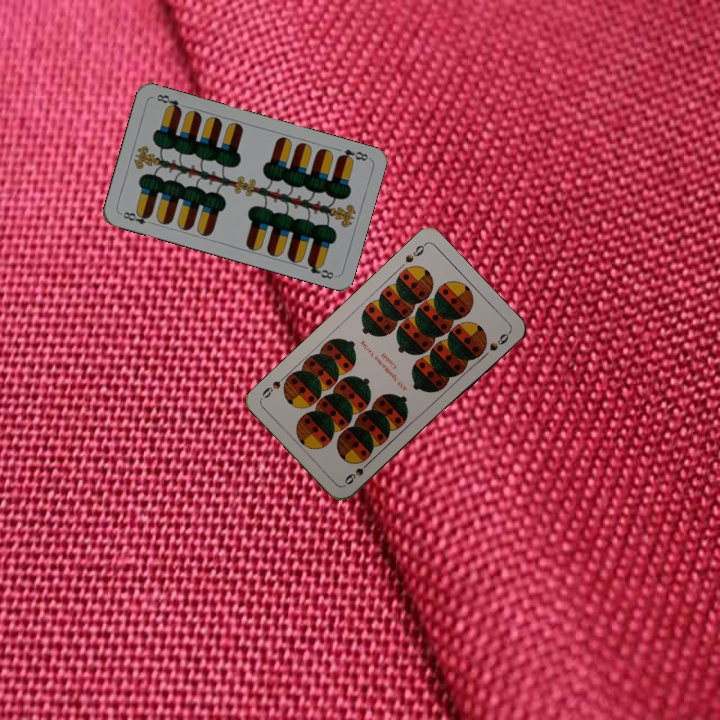E8: (332, 144, 371, 165), (117, 207, 156, 227)
S9: (341, 456, 374, 487), (401, 239, 428, 266)
